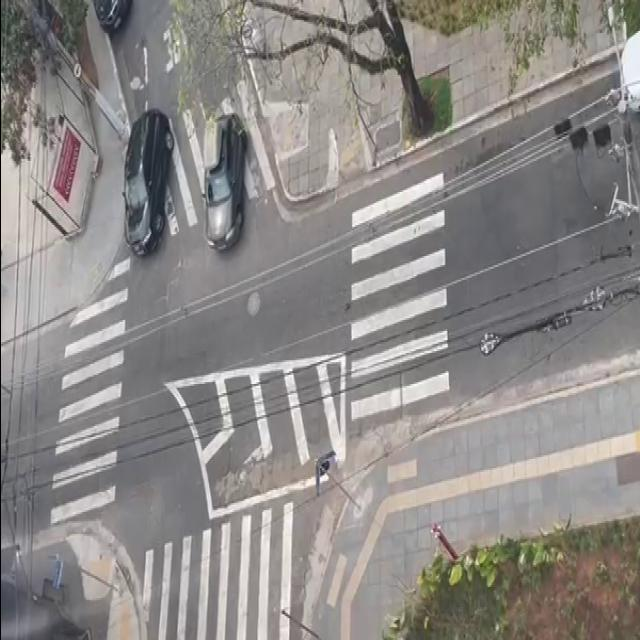car: (116, 91, 174, 265), (198, 100, 245, 272), (614, 22, 640, 134), (84, 0, 134, 42)
